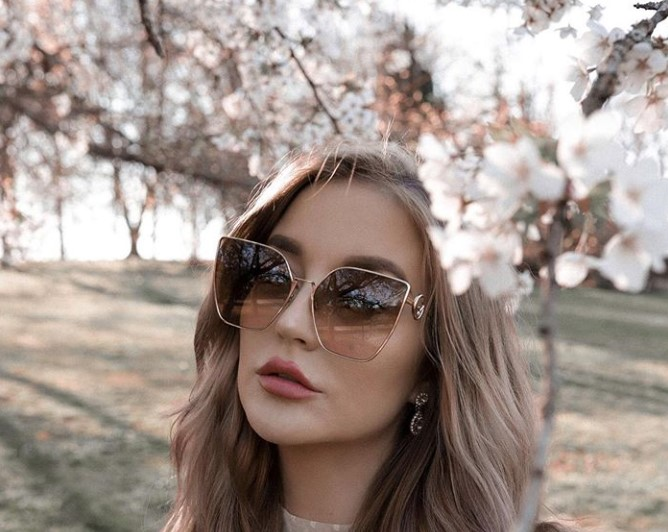face_no_mask: (236, 172, 428, 450)
